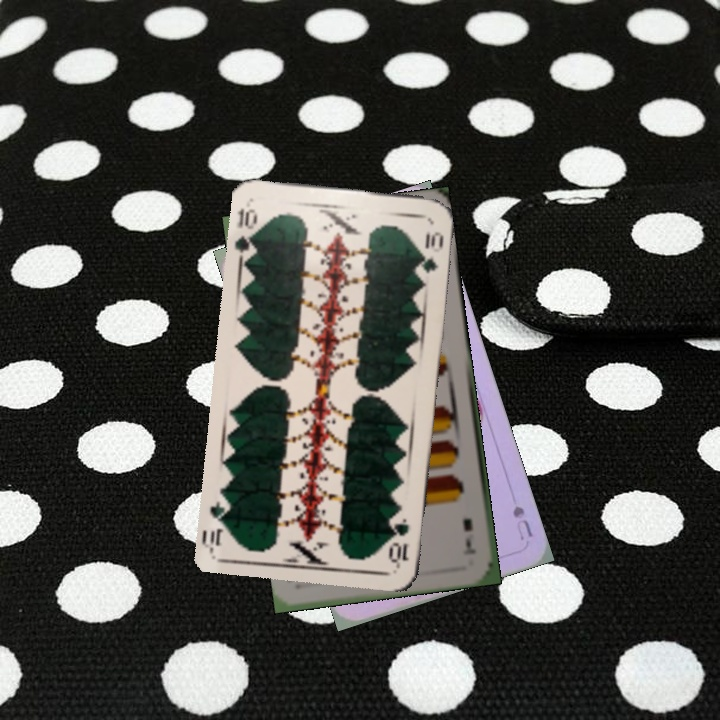E7: (459, 514, 478, 557)
G10: (231, 204, 260, 261), (386, 514, 412, 567)
SU: (508, 501, 536, 543)
